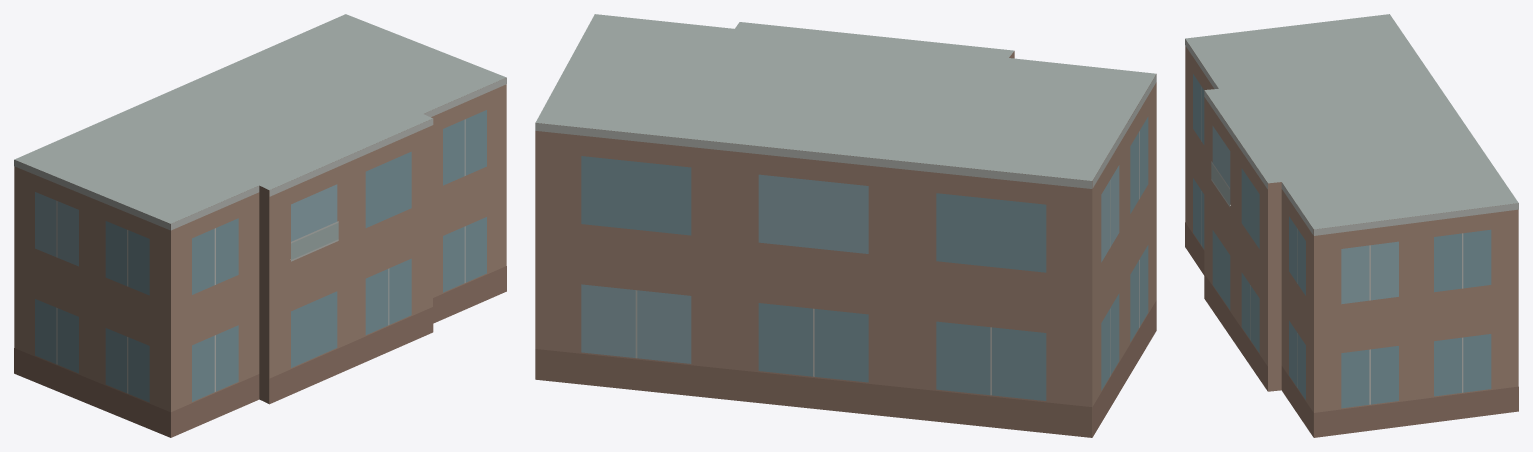
File: survey-upis-32841849.glb
3 views of the same model, side by side, from view 1: azimuth 30°, elevation 25°; view 2: azimuth 150°, elevation 25°; view 3: azimuth 270°, elevation 25° (orthographic). The views are drawn at different scales.
Parts seen in each view (by area): view 1: survey-upis-32841849.tmp; view 2: survey-upis-32841849.tmp; view 3: survey-upis-32841849.tmp.
Part boxes in pixels (x1,y1,x2,y2): survey-upis-32841849.tmp: [14, 14, 506, 437]; survey-upis-32841849.tmp: [535, 14, 1156, 437]; survey-upis-32841849.tmp: [1185, 14, 1518, 437].
Bounding box in the file's own units: 17.31 × 7.8 × 11.33.
